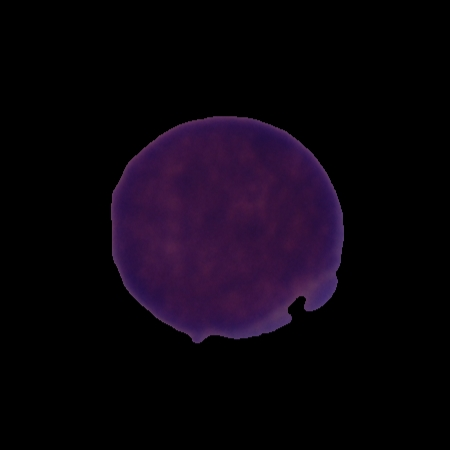ALL: (107, 111, 347, 346)
